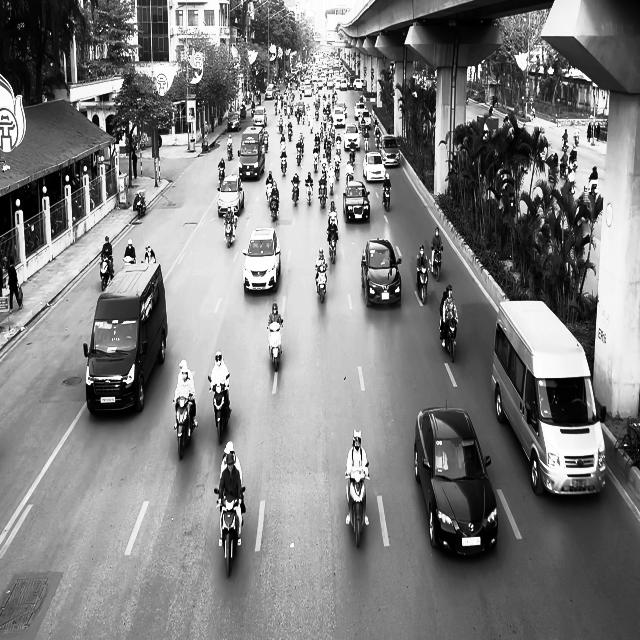bus: (491, 299, 606, 497)
car: (414, 403, 498, 557), (361, 238, 402, 306), (242, 226, 281, 293), (217, 174, 244, 218), (343, 181, 370, 223), (363, 151, 386, 182), (380, 134, 400, 167), (227, 111, 241, 131)
motorbike: (214, 485, 245, 577), (345, 468, 370, 548), (208, 374, 231, 444), (173, 395, 196, 460), (440, 314, 458, 362), (267, 318, 283, 371), (100, 252, 114, 291), (416, 264, 429, 304), (223, 215, 237, 248), (315, 266, 327, 302), (431, 245, 443, 281), (327, 228, 338, 264), (134, 190, 146, 217), (269, 193, 279, 221), (382, 184, 391, 211), (291, 179, 300, 206), (305, 178, 313, 205), (217, 164, 225, 190)
truck: (83, 261, 168, 415)
